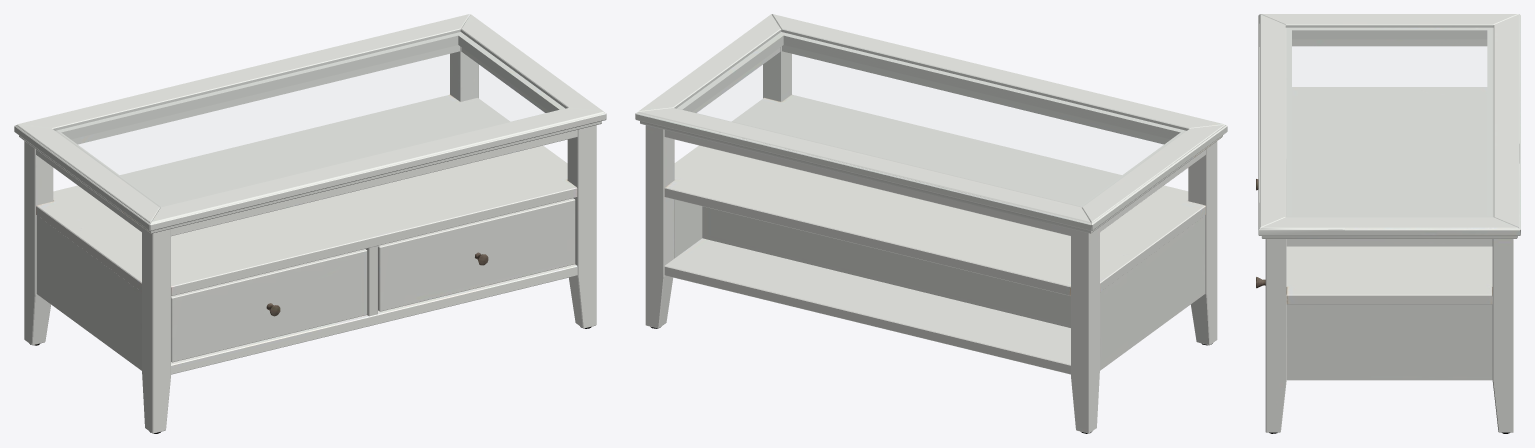
The model's file is idanas_stolik_kawowy_20487873.glb.
The picture shows the model from 3 angles, left to right: view 1: azimuth 30°, elevation 25°; view 2: azimuth 150°, elevation 25°; view 3: azimuth 270°, elevation 25°; orthographic projection. The views are drawn at different scales.
Visible parts, largest first — view 1: idanas_stolik_kawowy_20487873; view 2: idanas_stolik_kawowy_20487873; view 3: idanas_stolik_kawowy_20487873.
Part boxes in pixels (x1,y1,x2,y2): idanas_stolik_kawowy_20487873: (14, 14, 606, 433); idanas_stolik_kawowy_20487873: (635, 14, 1227, 433); idanas_stolik_kawowy_20487873: (1256, 14, 1520, 433).
Size of the model in its own units: 1.07 by 0.485 by 0.5549.
2 materials, 2 textured.
